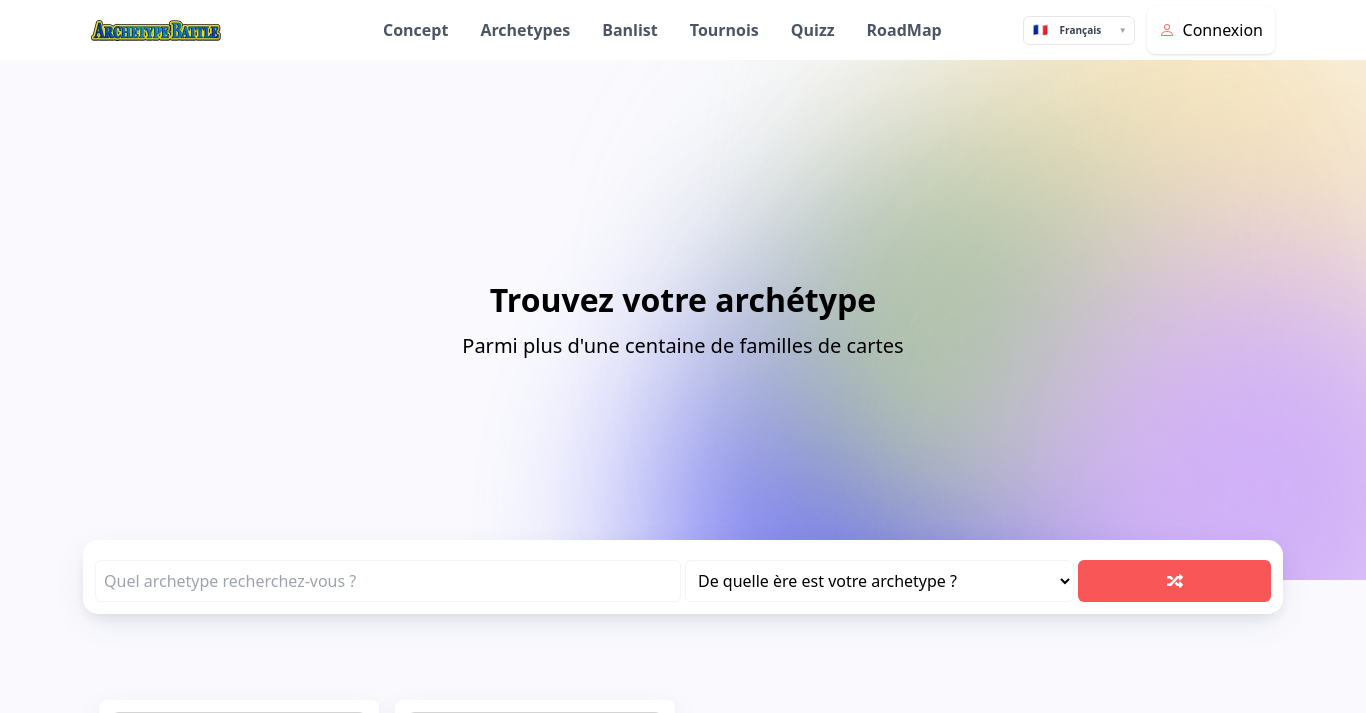
Test: ArchetypesPage (integration) › random button › is disabled when an era is selected
Check: the button named "Archétype aléatoire" is enabled, box [1078, 560, 1271, 602]
Select "DM" in the dropdown named "era" at (880, 581), box [685, 560, 1074, 602]
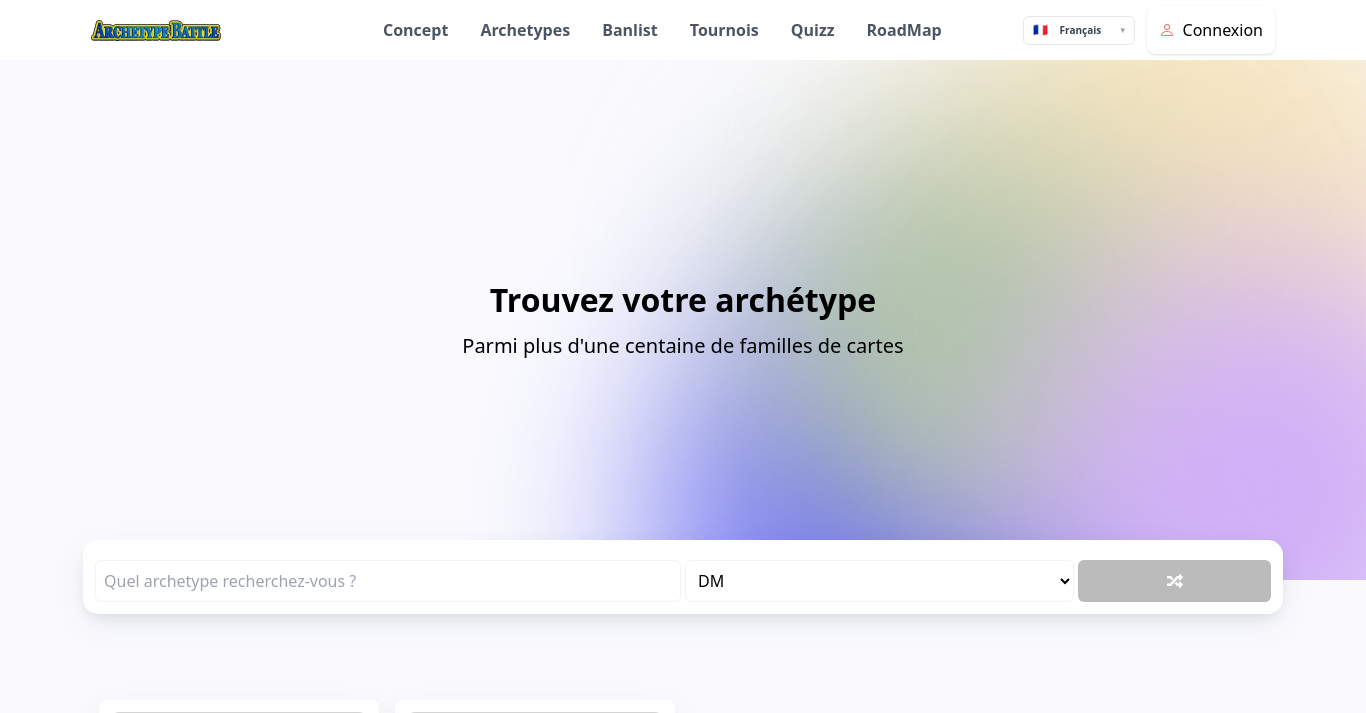
Check: the button named "Archétype aléatoire" is disabled, box [1078, 560, 1271, 602]
